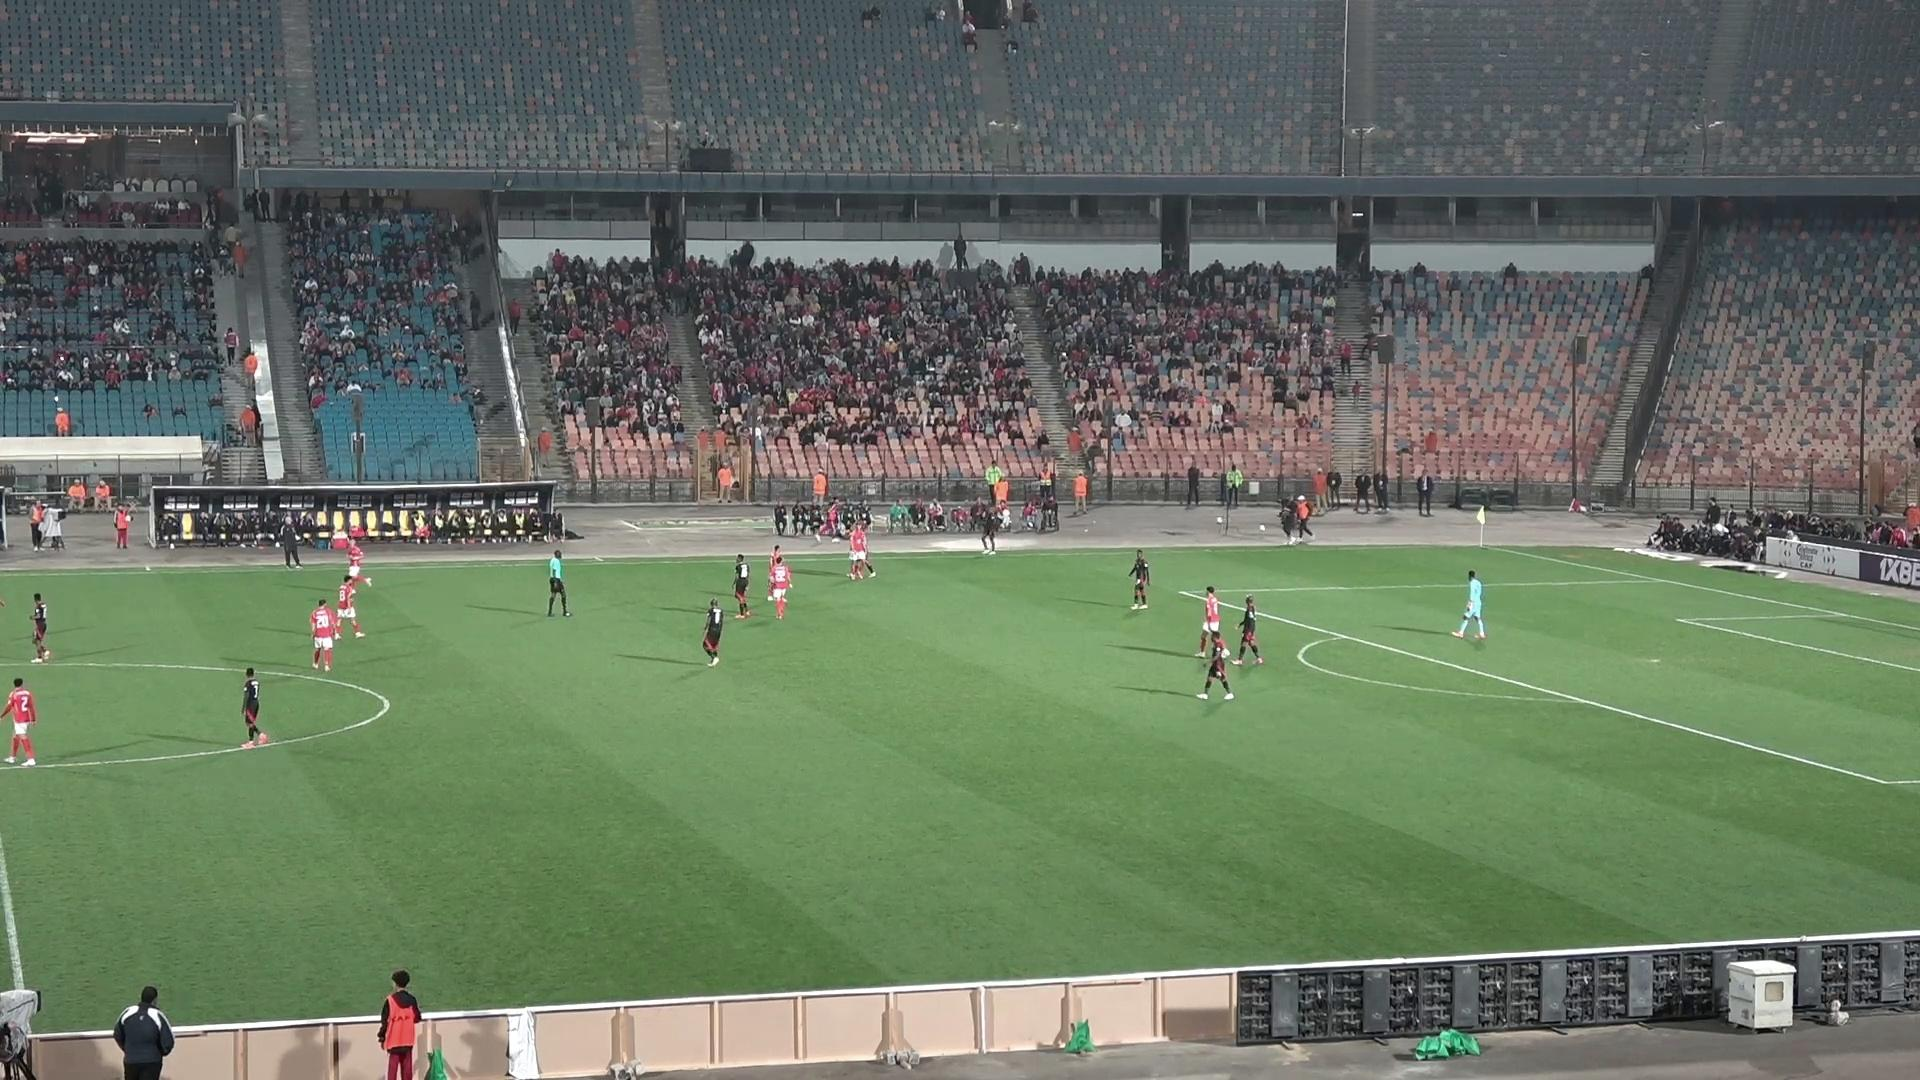GK2: (1452, 570, 1487, 640)
Refree: (543, 549, 572, 617)
Team1: (0, 678, 37, 765), (310, 600, 340, 673), (331, 533, 371, 584), (335, 572, 363, 636), (767, 549, 793, 618), (847, 521, 874, 578), (1201, 585, 1225, 650), (769, 543, 785, 567)
Team2: (1196, 630, 1233, 700), (240, 669, 272, 748), (1233, 593, 1262, 665), (971, 501, 1004, 554), (702, 597, 727, 666), (30, 593, 53, 663), (731, 554, 752, 618), (1129, 550, 1150, 609), (737, 605, 746, 618)
